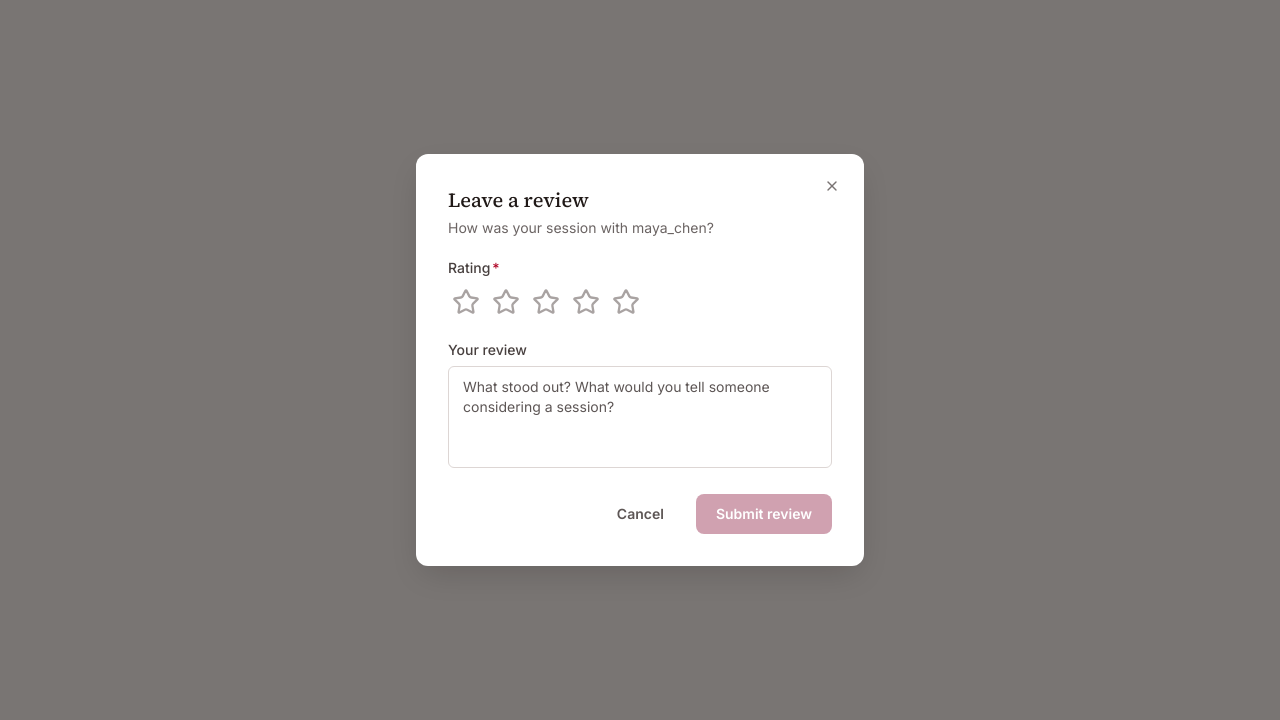
Test: ReviewModal › star rating › keeps submit disabled until a rating is chosen
Expected: the button "Submit review" is disabled, [696,494,832,534]
Click the radio button named "1 star". click: (466, 302)
box: [448,284,484,320]
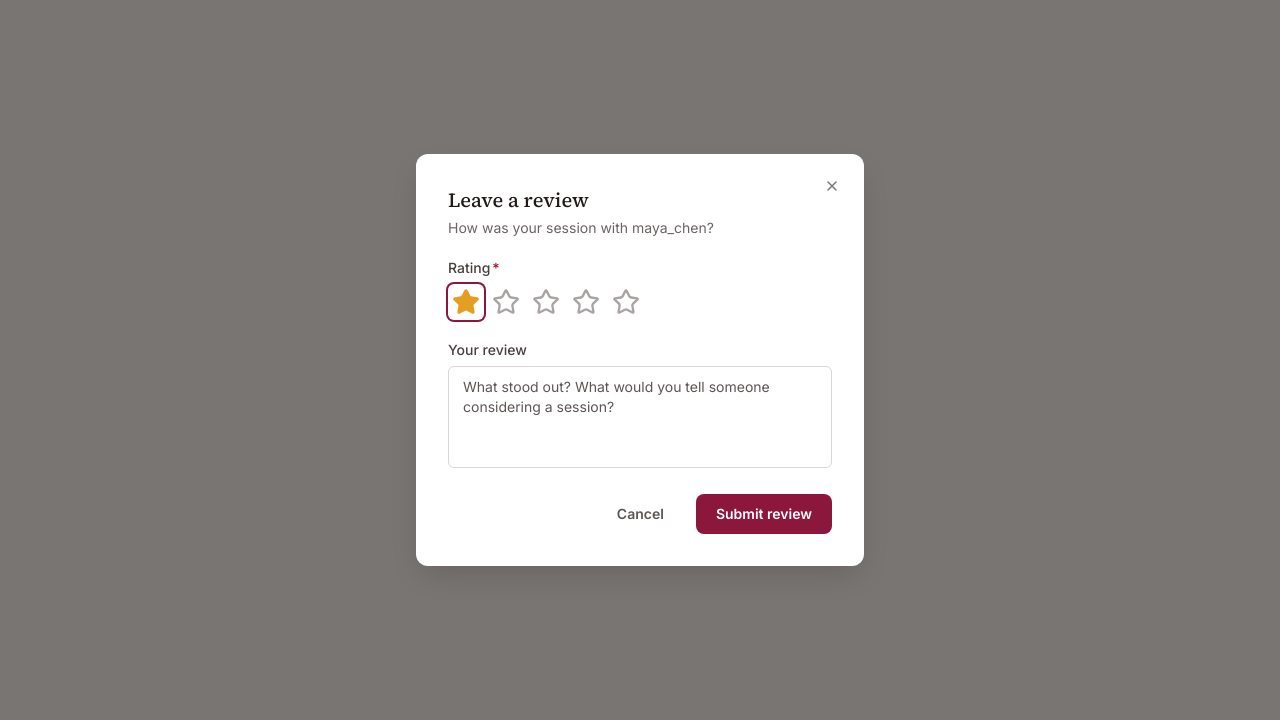
Expected: the button "Submit review" is enabled, [696,494,832,534]
